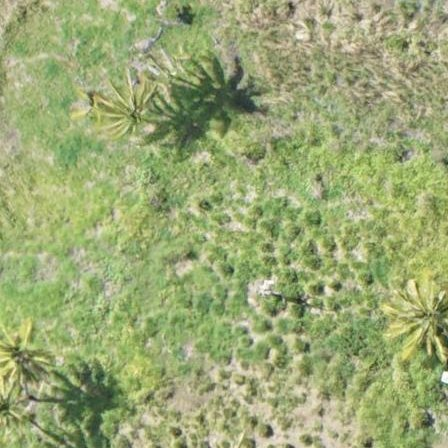palm_tree: (385, 283, 448, 355), (100, 76, 162, 141), (1, 322, 49, 389)
